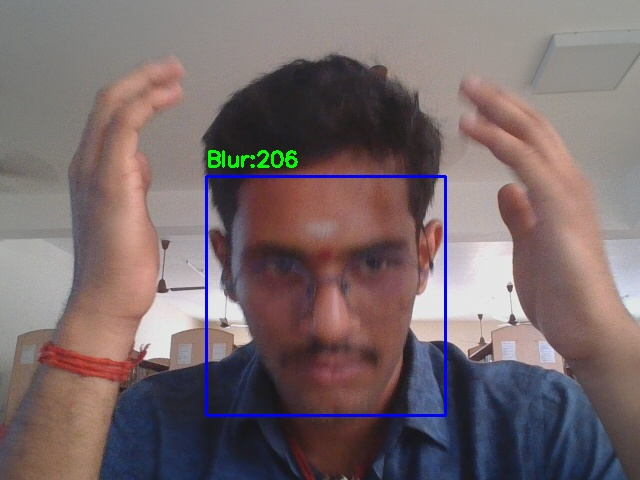real: (206, 176, 445, 415)
